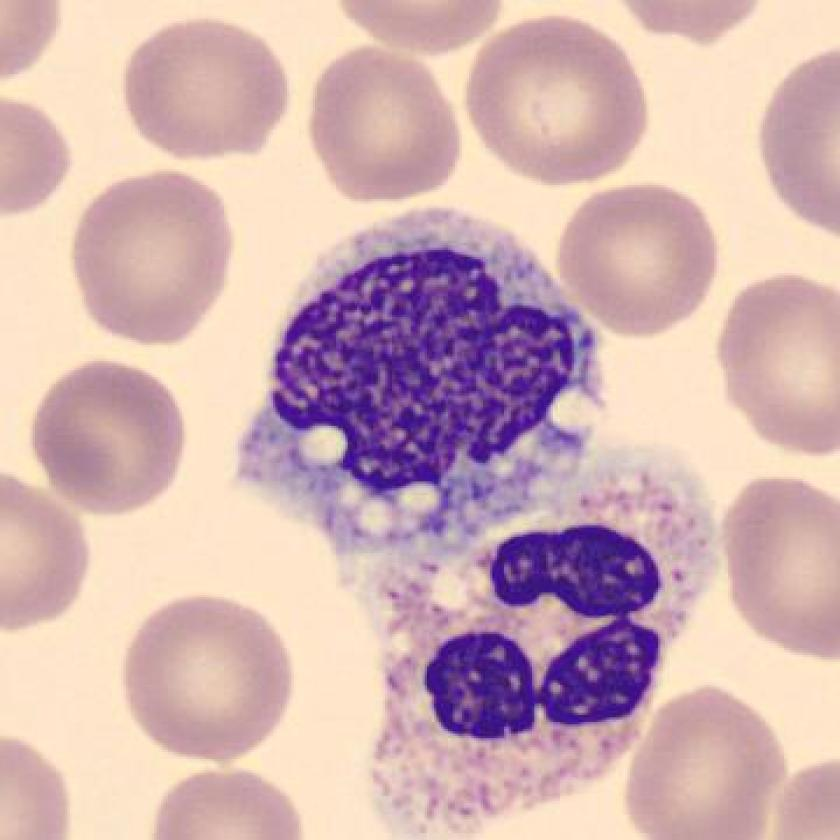monocyte: (218, 189, 636, 580)
